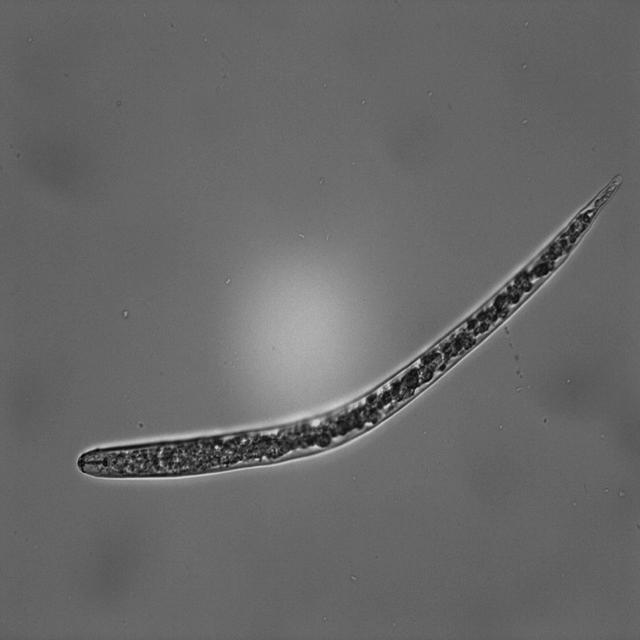Radopholus: (71, 167, 629, 485)
